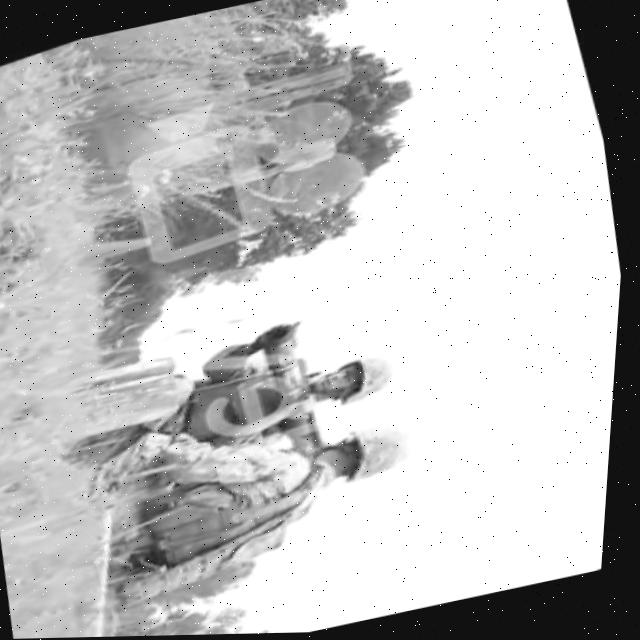rocket: (246, 316, 342, 455)
